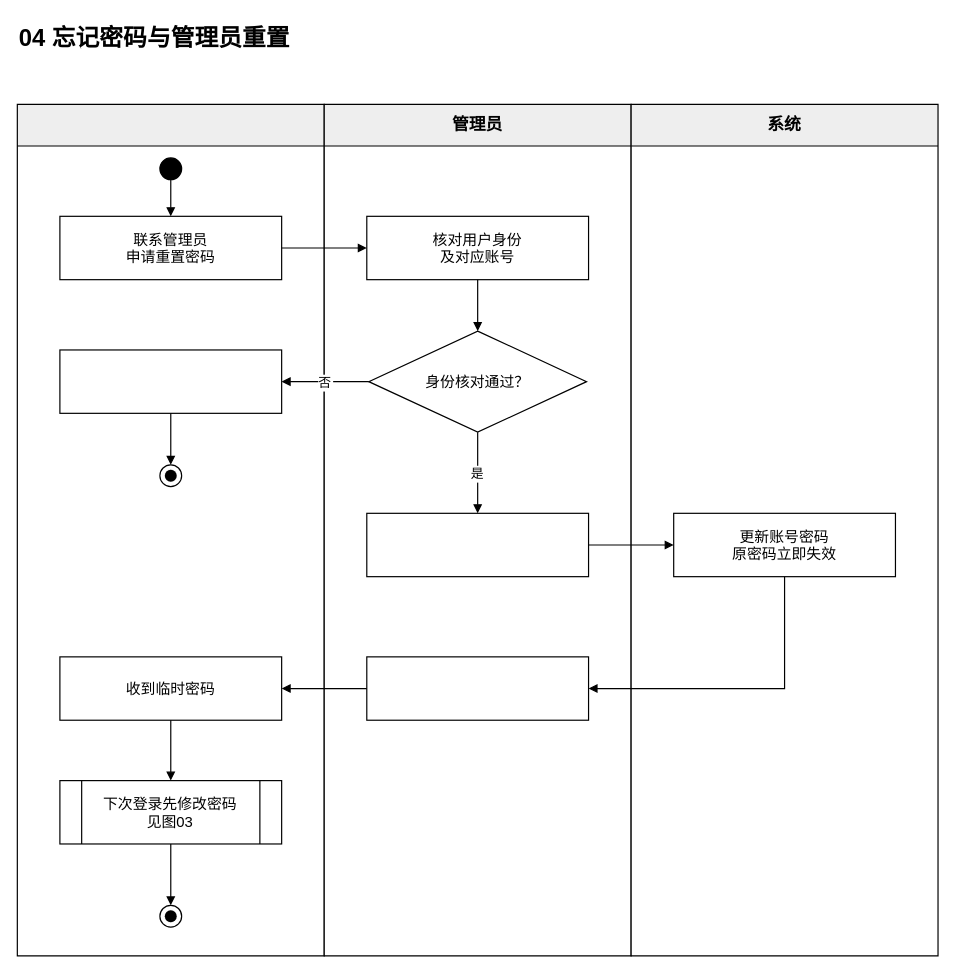
Image size: 956x973. Some labels were removed from this diagram. The shapes that lost their labels are listed below. From the top down, each one's box as (x1, y1, x2, y2) in pixels, then its label:
(59, 349, 282, 413): 收到无法办理重置的说明
(16, 103, 324, 956): 用户
(366, 512, 589, 577): 选择账号 设置新的临时密码
(366, 656, 589, 720): 告知用户临时密码
